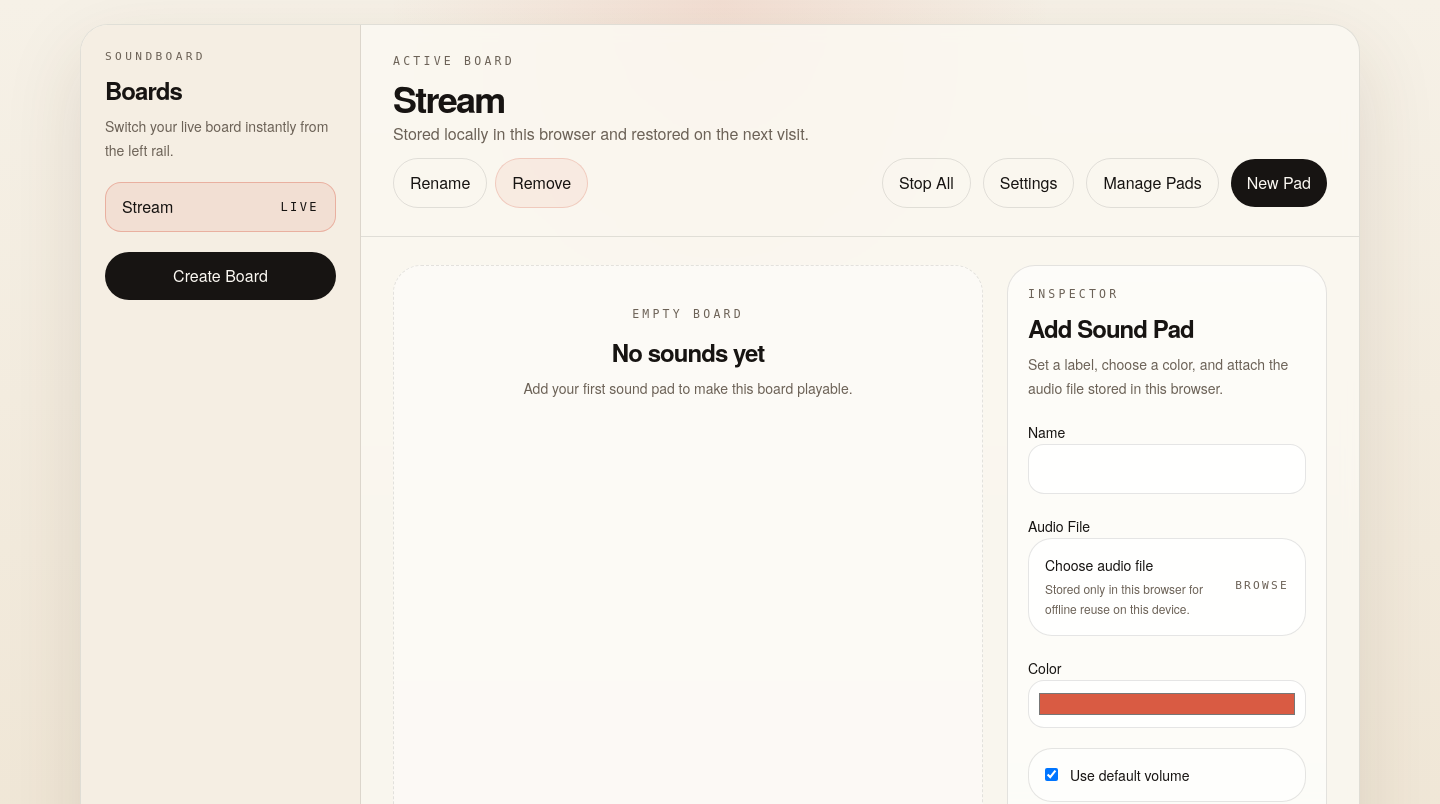
Test case: SoundboardApp › cancels a board rename when Escape is pressed in the name field
This screenshot has width=1440, height=804.
Click the button with aria-label "rename stream".
click(440, 183)  # box [393,158,487,208]
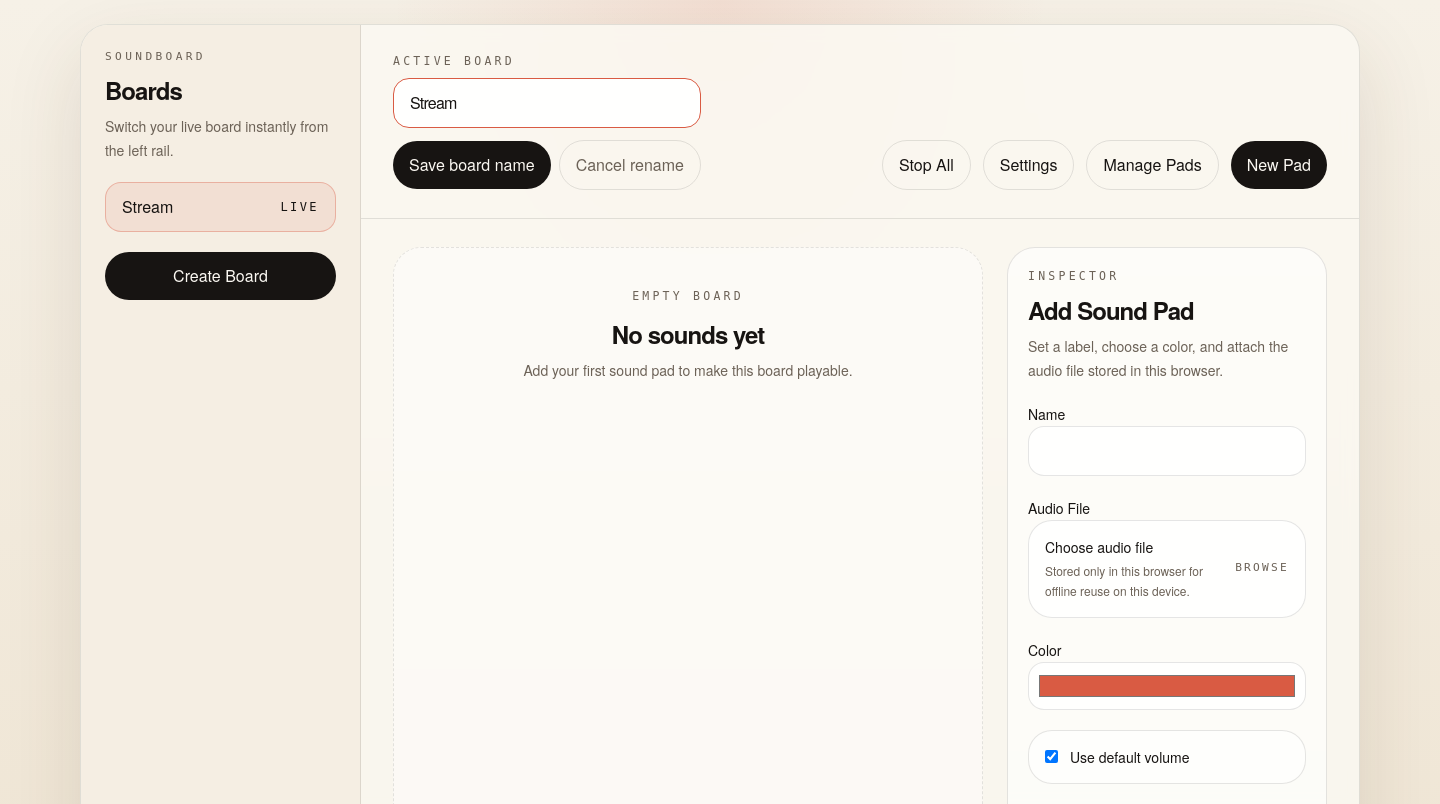
Replace the text in the field named "board name" with "Studio" at point(547, 103), box [393,78,701,128]
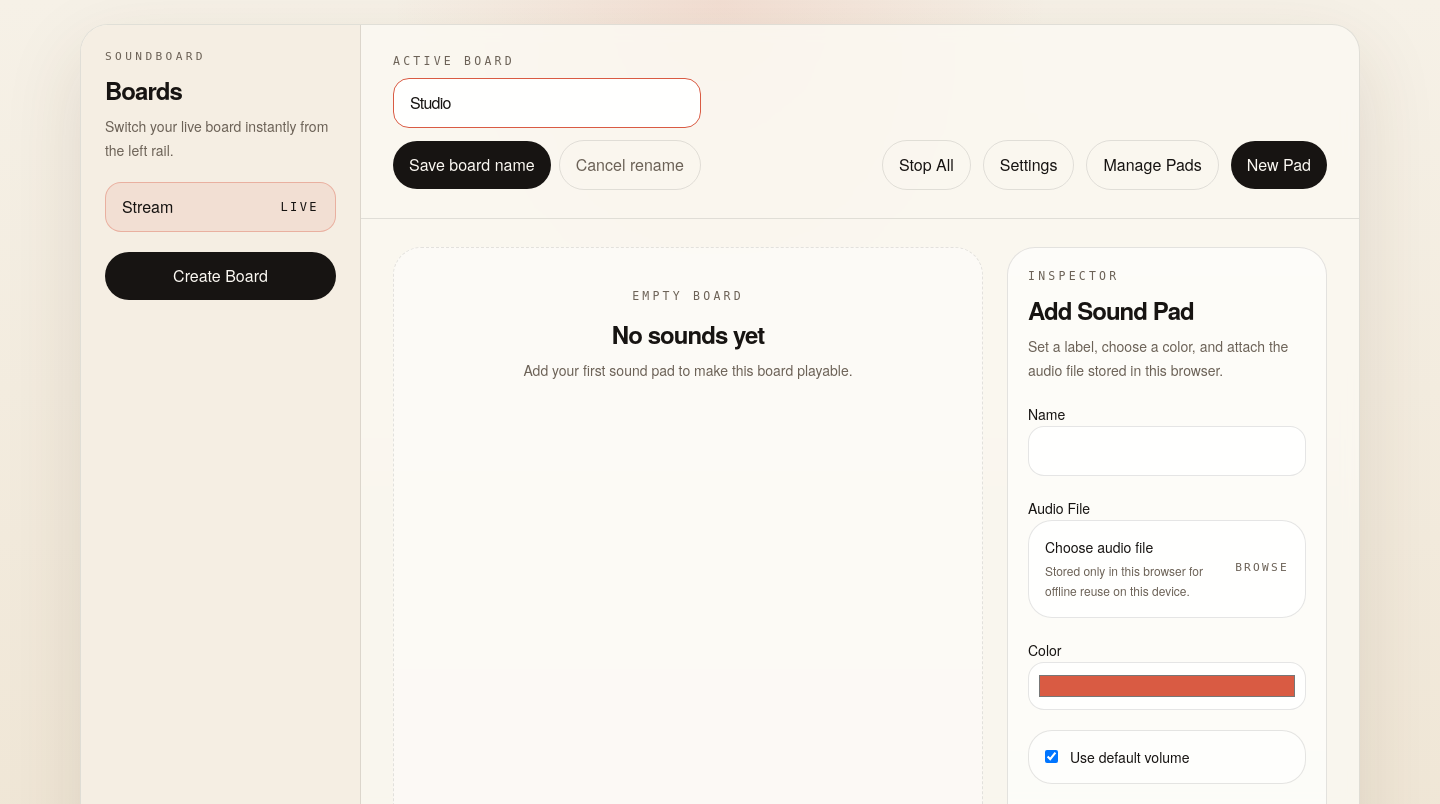
Press Escape
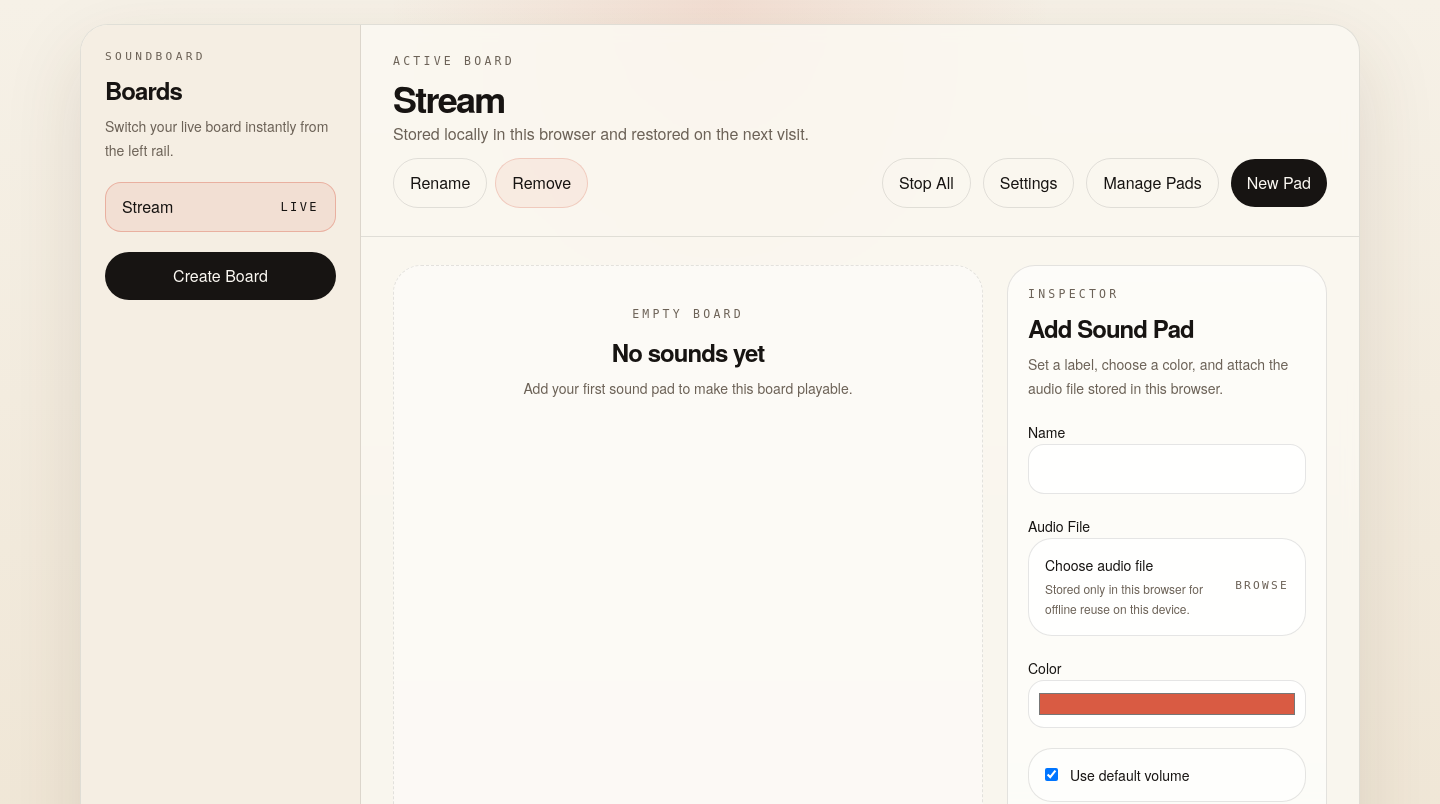
Result: the heading "Stream" is shown at [393,72,504,124]
Result: the button "board name" is gone
